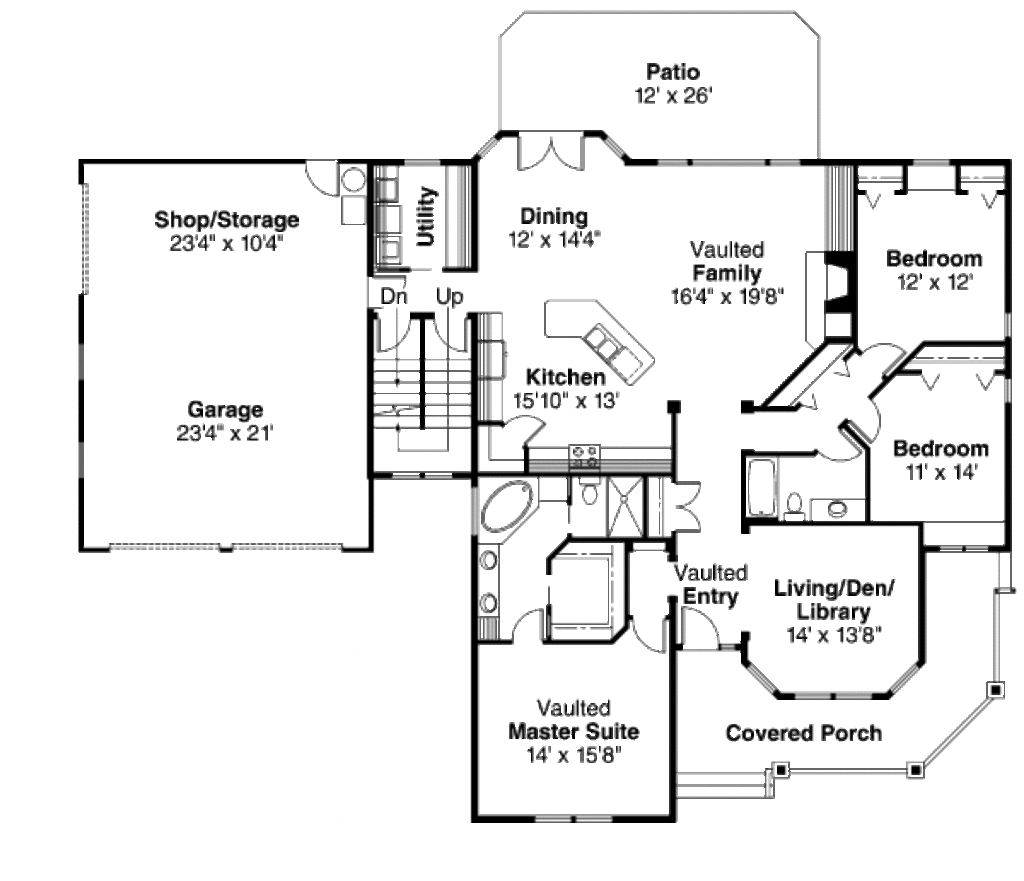door: (507, 130, 605, 175), (496, 600, 556, 648), (671, 607, 727, 658), (664, 478, 712, 536), (807, 426, 864, 470), (849, 392, 889, 450), (499, 403, 548, 447), (853, 332, 901, 375), (619, 614, 665, 658), (372, 307, 417, 351), (429, 311, 468, 352)
kitchen_bar: (535, 286, 668, 392)
large_sink: (561, 467, 600, 507), (776, 483, 804, 527)
small_sink: (463, 539, 508, 622), (816, 495, 871, 524)
stairs: (363, 295, 473, 462)
tub: (463, 471, 543, 544), (739, 450, 780, 524)
twin_sink: (575, 323, 629, 368)
window: (740, 646, 925, 704), (59, 174, 103, 302), (659, 148, 799, 171), (225, 532, 351, 554), (100, 538, 221, 552), (531, 808, 613, 827), (935, 540, 993, 560), (905, 154, 968, 172)
